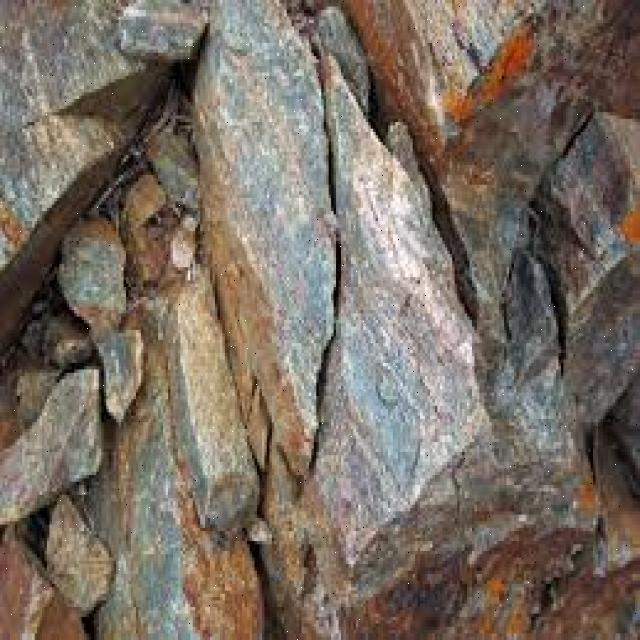Metamorphic: (2, 3, 638, 630)
